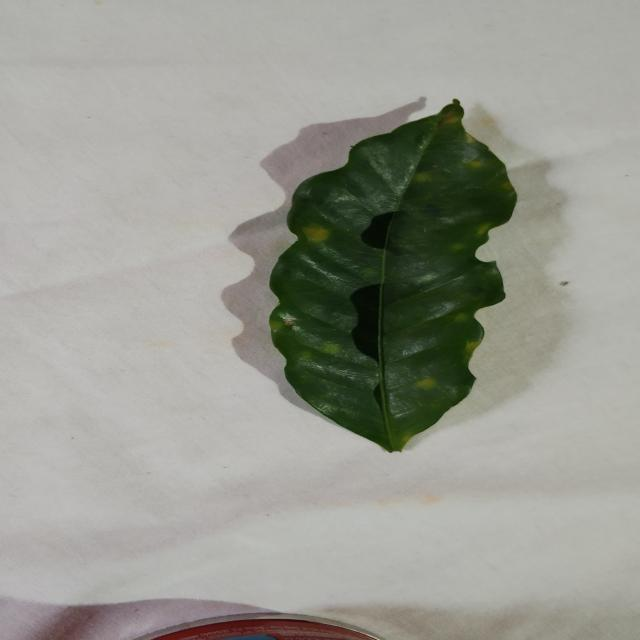Enfermedad-Roya: (264, 101, 518, 455)
